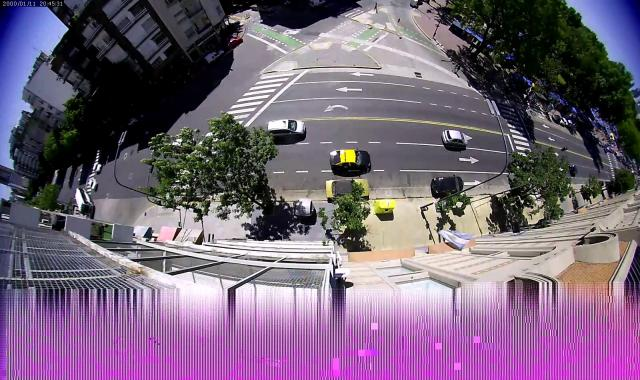bus: (75, 188, 94, 215)
car: (330, 150, 370, 170), (325, 180, 369, 198), (268, 120, 305, 139), (431, 176, 464, 193), (442, 130, 468, 146), (204, 50, 224, 64), (225, 37, 243, 50), (128, 115, 144, 126), (89, 178, 98, 190), (569, 164, 577, 174), (93, 164, 102, 171), (552, 115, 561, 122), (566, 120, 572, 127), (560, 118, 566, 124), (604, 148, 608, 153), (598, 142, 602, 146), (607, 147, 611, 151), (610, 148, 614, 152), (602, 143, 605, 147), (605, 144, 608, 147)
